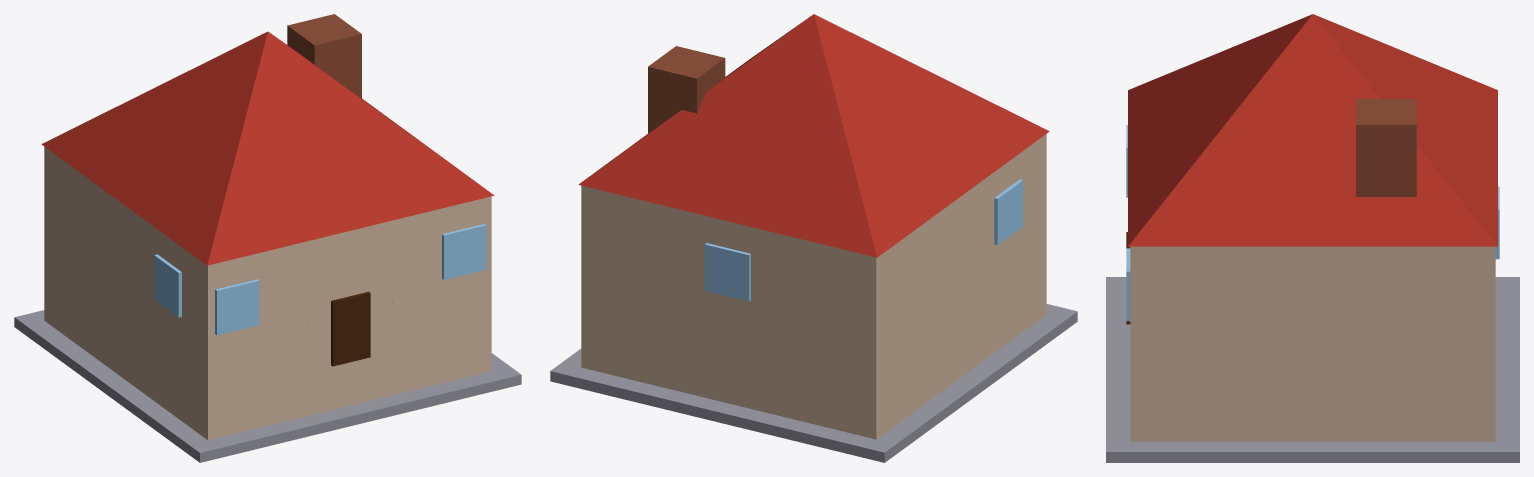
3 renders of one model, left to right at view 1: azimuth 30°, elevation 25°; view 2: azimuth 150°, elevation 25°; view 3: azimuth 270°, elevation 25°, orthographic. The views are drawn at different scales.
Visible parts, largest first — view 1: House; view 2: House; view 3: House.
Part boxes in pixels (x1=…): House: x1=14, y1=14, x2=521, y2=462; House: x1=550, y1=14, x2=1077, y2=462; House: x1=1106, y1=14, x2=1519, y2=462.
Size of the model in its own units: 3.4 by 3.28 by 3.4.
